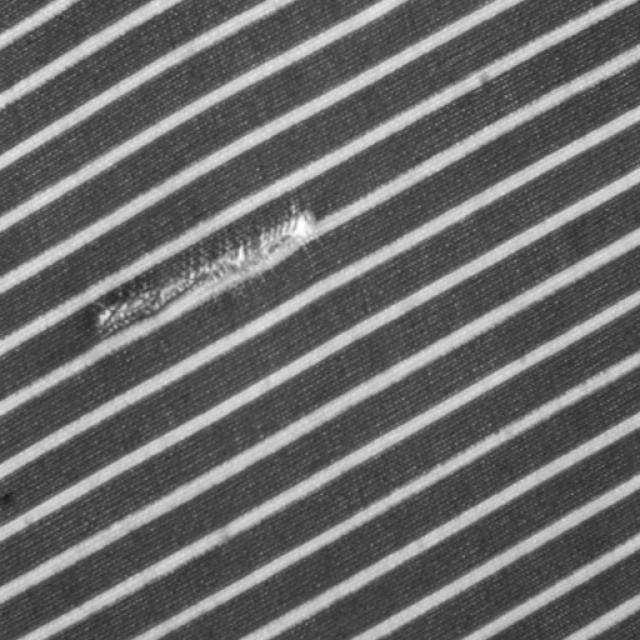Hole-Defect: (91, 205, 316, 334)
